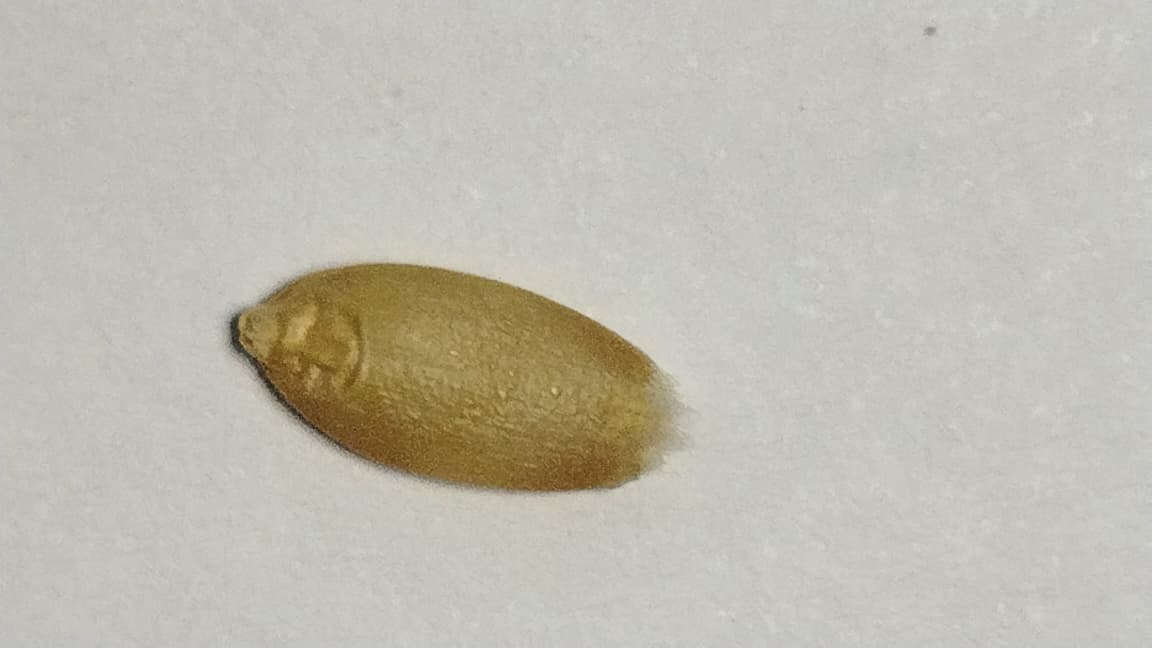healthy: (238, 266, 658, 489)
